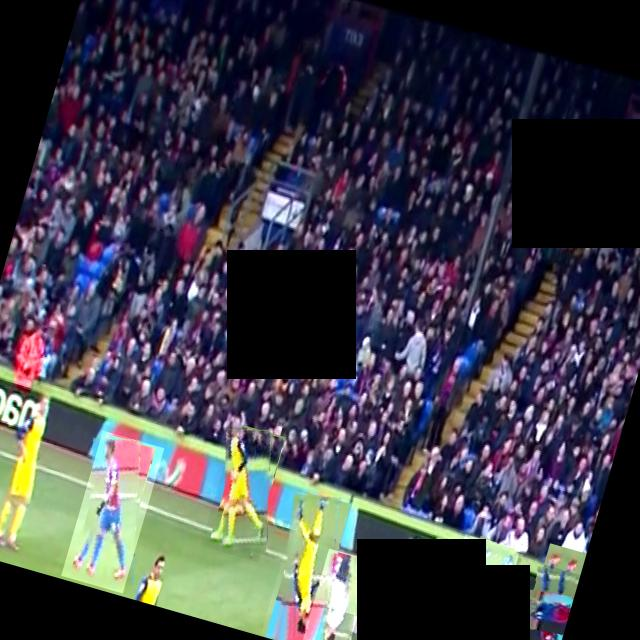referee: (299, 547, 372, 640)
soccer-player: (60, 429, 163, 592), (259, 486, 357, 640), (200, 420, 292, 560), (423, 532, 519, 640), (493, 556, 580, 640), (310, 605, 368, 640)
